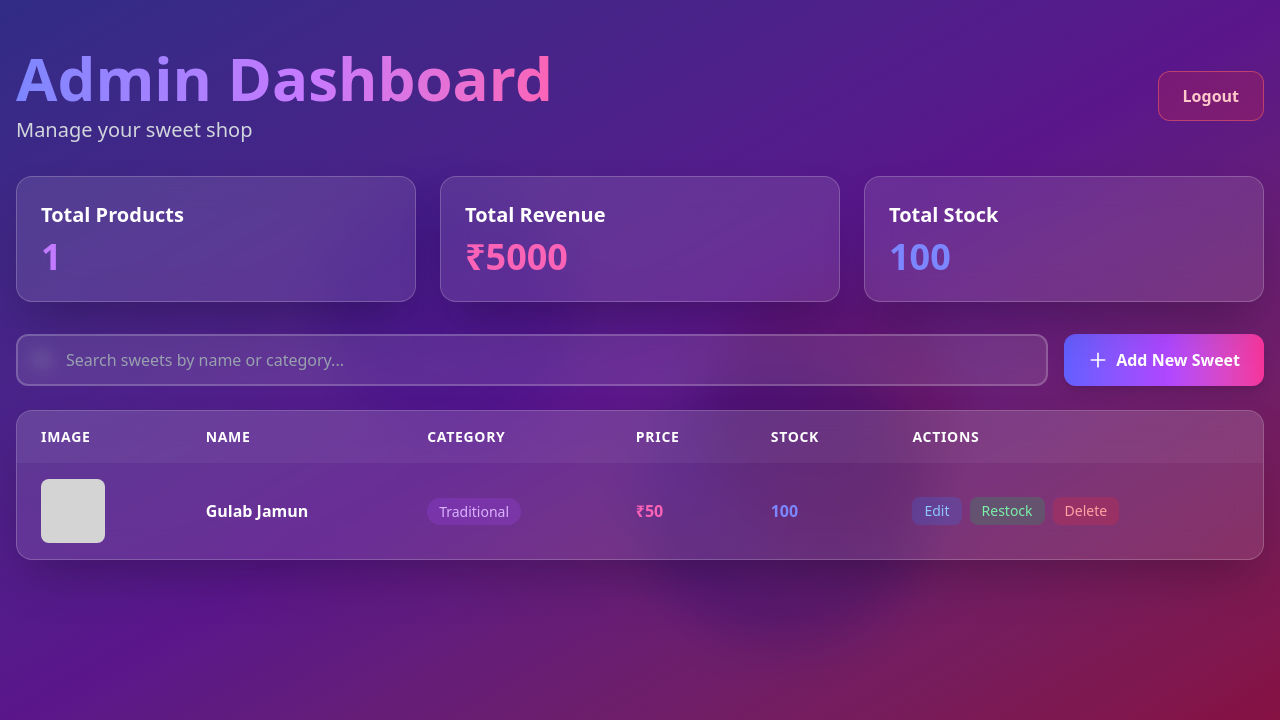
Test: DashboardContent - Edit Sweet › opens edit modal when Edit button is clicked with sweet data pre-filled
This screenshot has width=1280, height=720.
Expected: the text "Gulab Jamun" is shown, [182,463,403,559]
Click the button "Edit": (937, 511) [912,497,962,525]
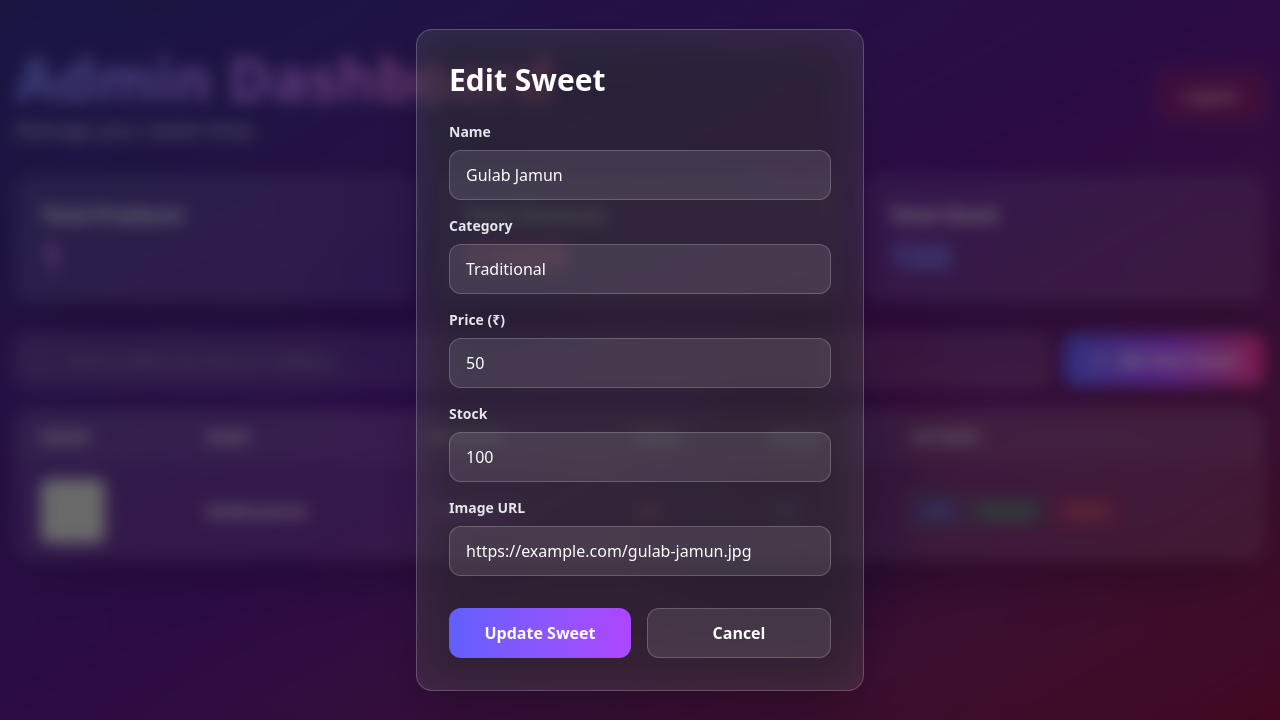
Result: the heading "Edit Sweet" is shown at [449,59,606,100]
Result: the 1st field showing "Gulab Jamun" is shown at [449,150,831,200]
Result: the 2nd field showing "Traditional" is shown at [449,244,831,294]
